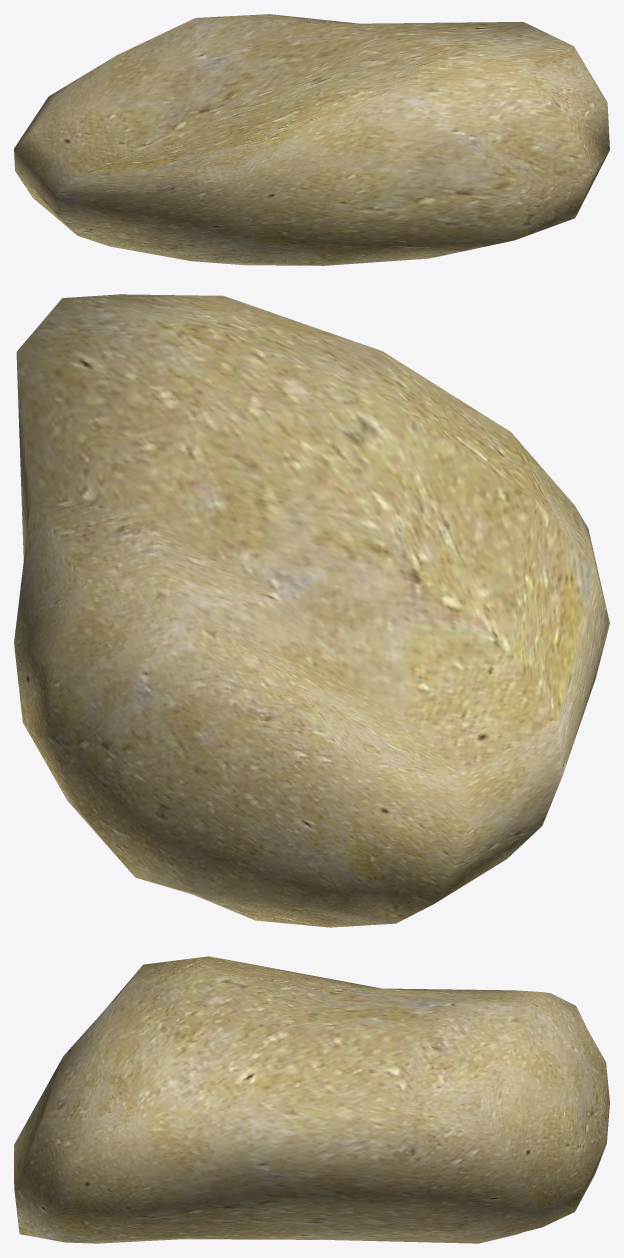
The model's file is Riverstone2.fbx.
3 views of the same model, one above another, from view 1: azimuth 30°, elevation 25°; view 2: azimuth 150°, elevation 25°; view 3: azimuth 270°, elevation 25° (orthographic). The views are drawn at different scales.
Parts seen in each view (by area): view 1: Riverstone2; view 2: Riverstone2; view 3: Riverstone2.
Part boxes in pixels (x1,y1,x2,y2): Riverstone2: [14, 14, 609, 265]; Riverstone2: [14, 294, 609, 927]; Riverstone2: [14, 956, 609, 1243].
Bounding box in the file's own units: 119 × 59.5 × 114.
1 material, 1 textured.
